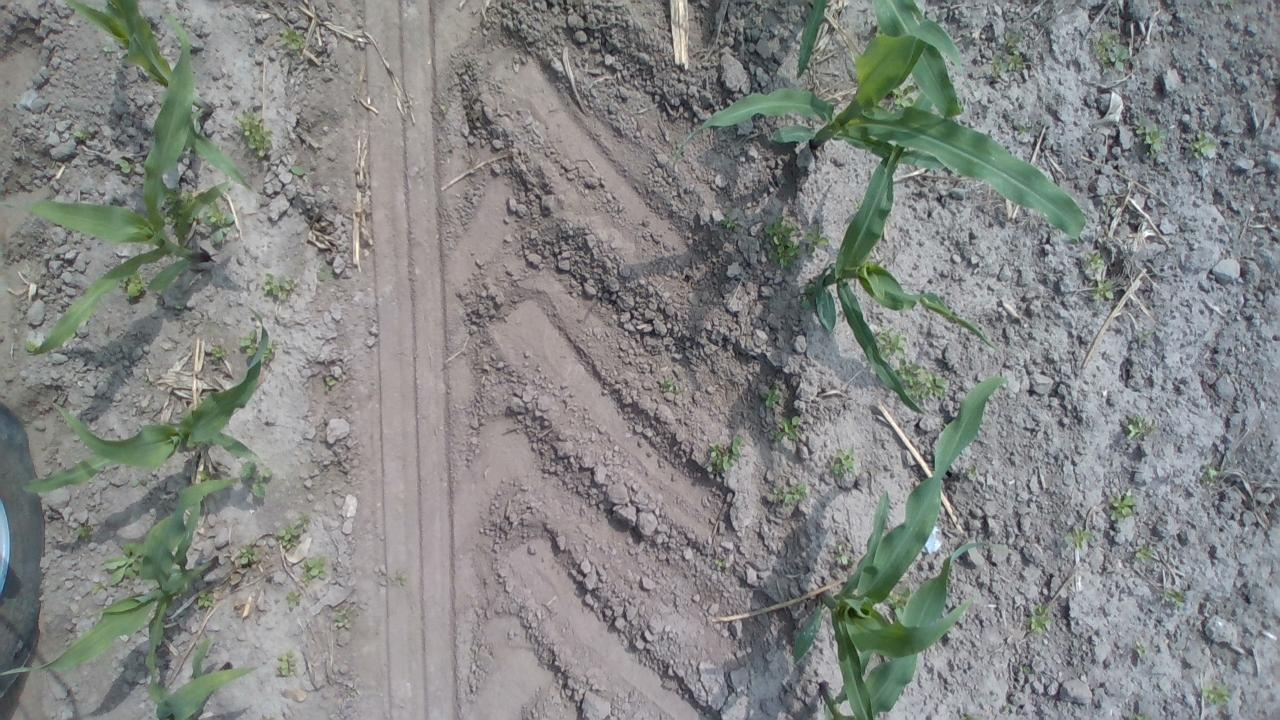Maize: (672, 0, 1086, 237), (794, 373, 1006, 720), (0, 11, 213, 353), (809, 144, 1001, 412), (0, 478, 238, 691), (18, 310, 270, 498), (60, 0, 257, 195), (816, 537, 990, 720), (794, 0, 964, 122), (146, 633, 262, 720)
Weeds: (762, 214, 828, 272), (892, 358, 947, 402), (233, 110, 274, 158), (989, 30, 1028, 80), (198, 199, 236, 246), (1132, 112, 1168, 160), (1092, 30, 1132, 73), (162, 188, 191, 246), (704, 434, 744, 474), (102, 550, 143, 586), (275, 512, 310, 552), (238, 460, 272, 500), (766, 478, 816, 505), (238, 328, 280, 360), (873, 326, 909, 361), (261, 270, 299, 302), (1024, 604, 1056, 635), (1188, 130, 1220, 160), (829, 447, 860, 476), (770, 415, 801, 442), (881, 586, 910, 614), (1108, 494, 1138, 521), (1064, 525, 1094, 552), (1198, 682, 1230, 706), (891, 84, 920, 110), (1127, 414, 1156, 440), (274, 647, 298, 678), (280, 27, 306, 55), (303, 557, 329, 584), (1088, 278, 1114, 304), (122, 271, 146, 299), (758, 385, 786, 409), (1080, 248, 1106, 272), (238, 543, 262, 566), (832, 544, 854, 568), (207, 344, 232, 362), (658, 376, 682, 394), (1160, 590, 1185, 606), (334, 606, 352, 628), (315, 263, 335, 282), (1134, 545, 1154, 564), (73, 524, 94, 542), (115, 157, 136, 174), (719, 216, 738, 234), (286, 591, 304, 610), (798, 293, 816, 310), (671, 143, 688, 161), (197, 591, 214, 608), (319, 376, 338, 391), (72, 128, 92, 142), (396, 570, 408, 590), (1201, 467, 1218, 481), (966, 463, 978, 480), (1129, 712, 1154, 720), (1135, 643, 1149, 657), (23, 336, 37, 350), (144, 578, 160, 590), (127, 478, 148, 487), (90, 583, 108, 593), (712, 558, 726, 570), (1138, 330, 1153, 341), (290, 164, 304, 175), (960, 711, 976, 720), (1105, 199, 1117, 211), (102, 46, 115, 57), (1017, 126, 1028, 136), (174, 302, 185, 310), (142, 376, 150, 386), (1019, 666, 1031, 672), (1222, 0, 1232, 6)
